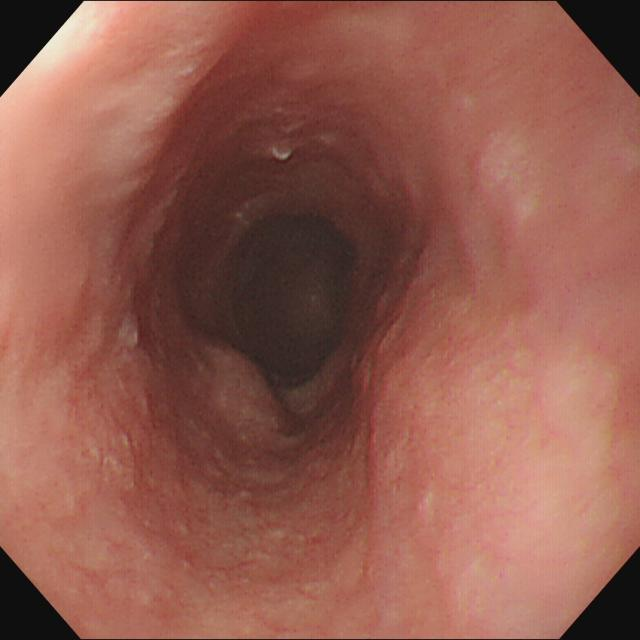A: (350, 319, 531, 555), (74, 309, 162, 498), (190, 330, 305, 460)
E: (222, 208, 370, 391)
